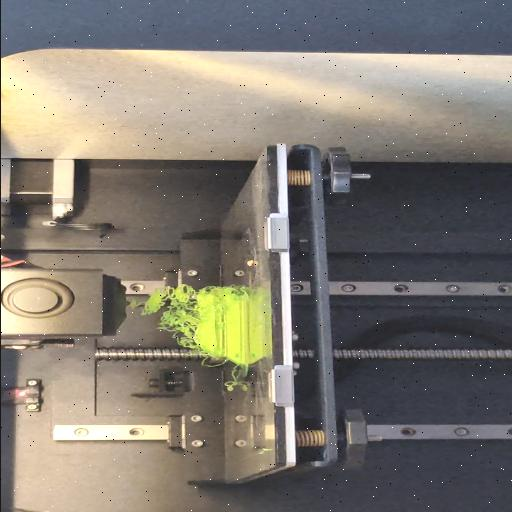spaghetti: (124, 288, 198, 350), (224, 367, 239, 394), (200, 360, 224, 368), (234, 284, 252, 292)
